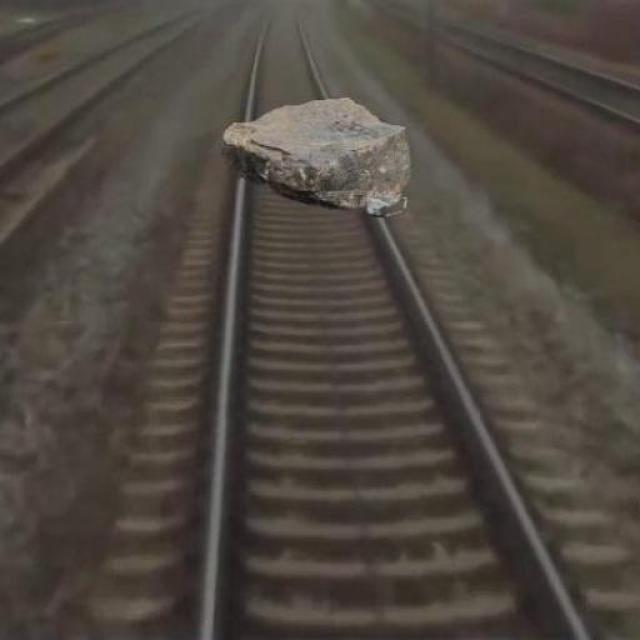Stone: (212, 91, 429, 222)
